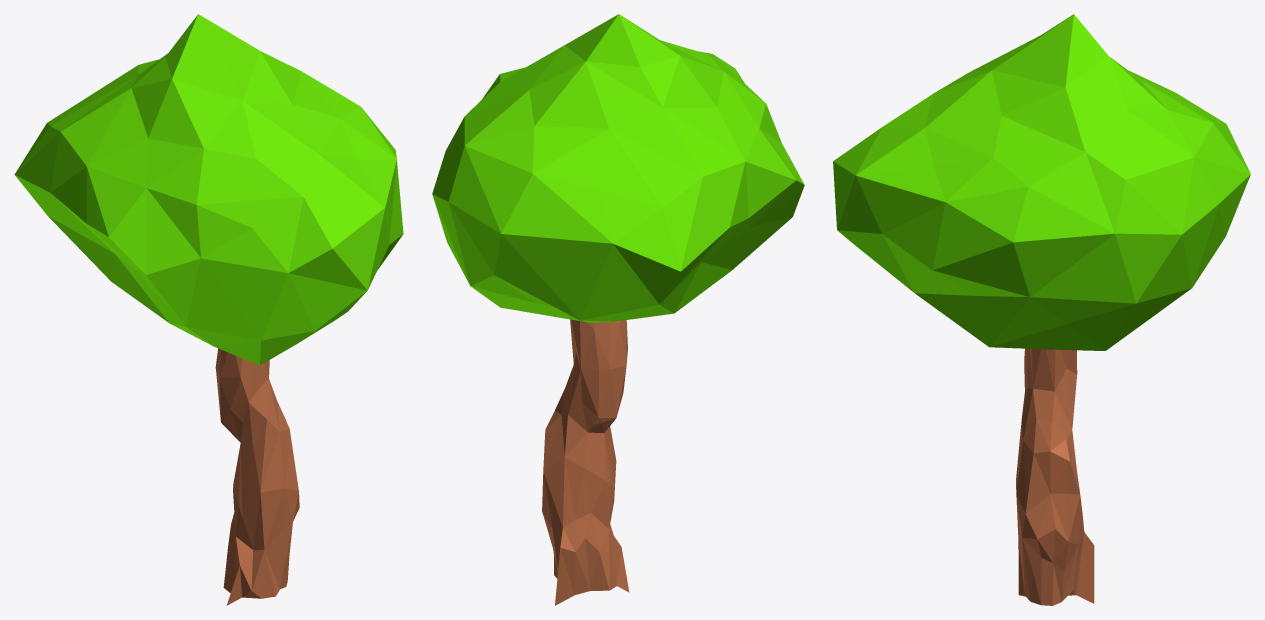
The model's file is Tree07.fbx.
3 views of the same model, side by side, from view 1: azimuth 30°, elevation 25°; view 2: azimuth 150°, elevation 25°; view 3: azimuth 270°, elevation 25° (orthographic). The views are drawn at different scales.
Visible parts, largest first — view 1: Icosphere, Cone; view 2: Icosphere, Cone; view 3: Icosphere, Cone.
Part boxes in pixels (x1,y1,x2,y2): Icosphere: (14,14,403,365); Cone: (215,348,299,605); Icosphere: (432,14,804,322); Cone: (542,319,629,605); Icosphere: (833,14,1250,350); Cone: (1016,348,1094,605).
Size of the model in its own units: 594 by 1110 by 744.
